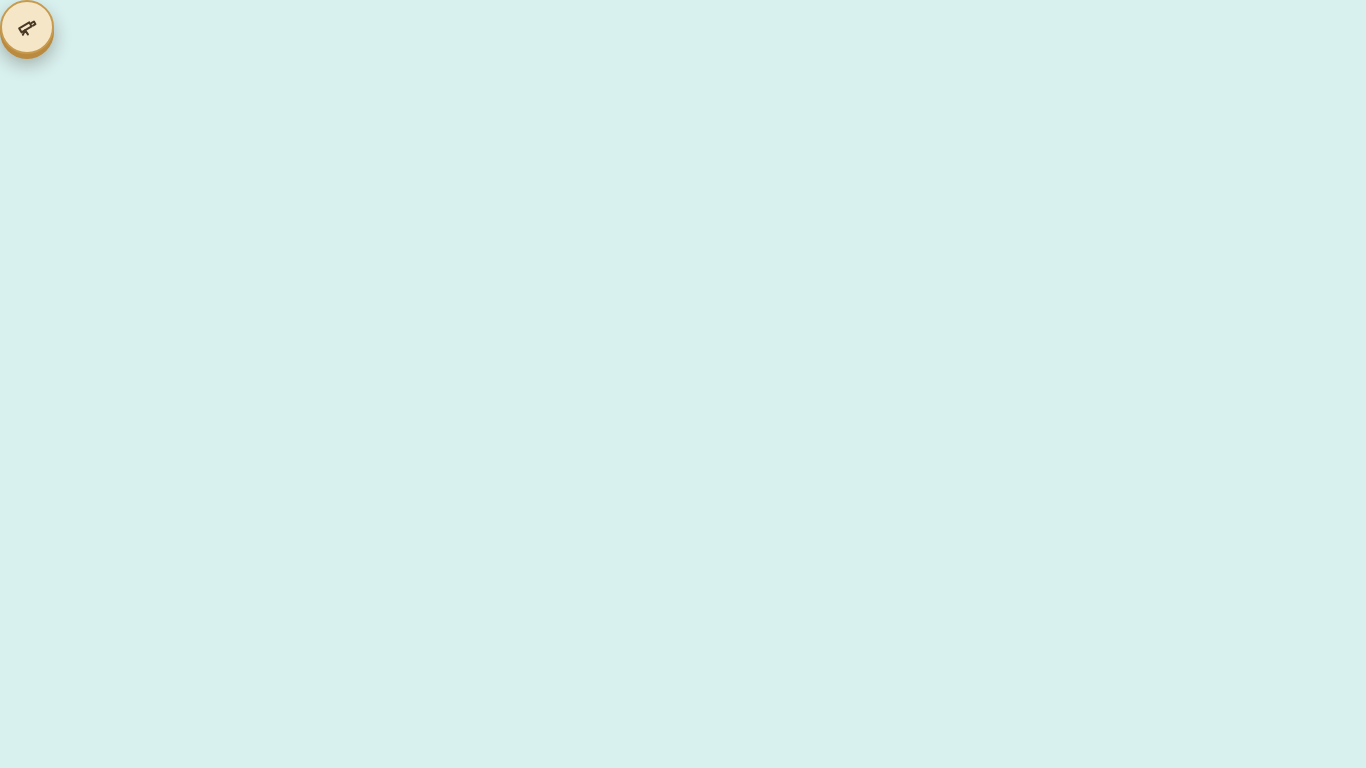
Test: ScoutControl › cancel closes the sheet without scouting
Click the button named "Scout for threats".
click(27, 27)  # box [0,0,54,54]
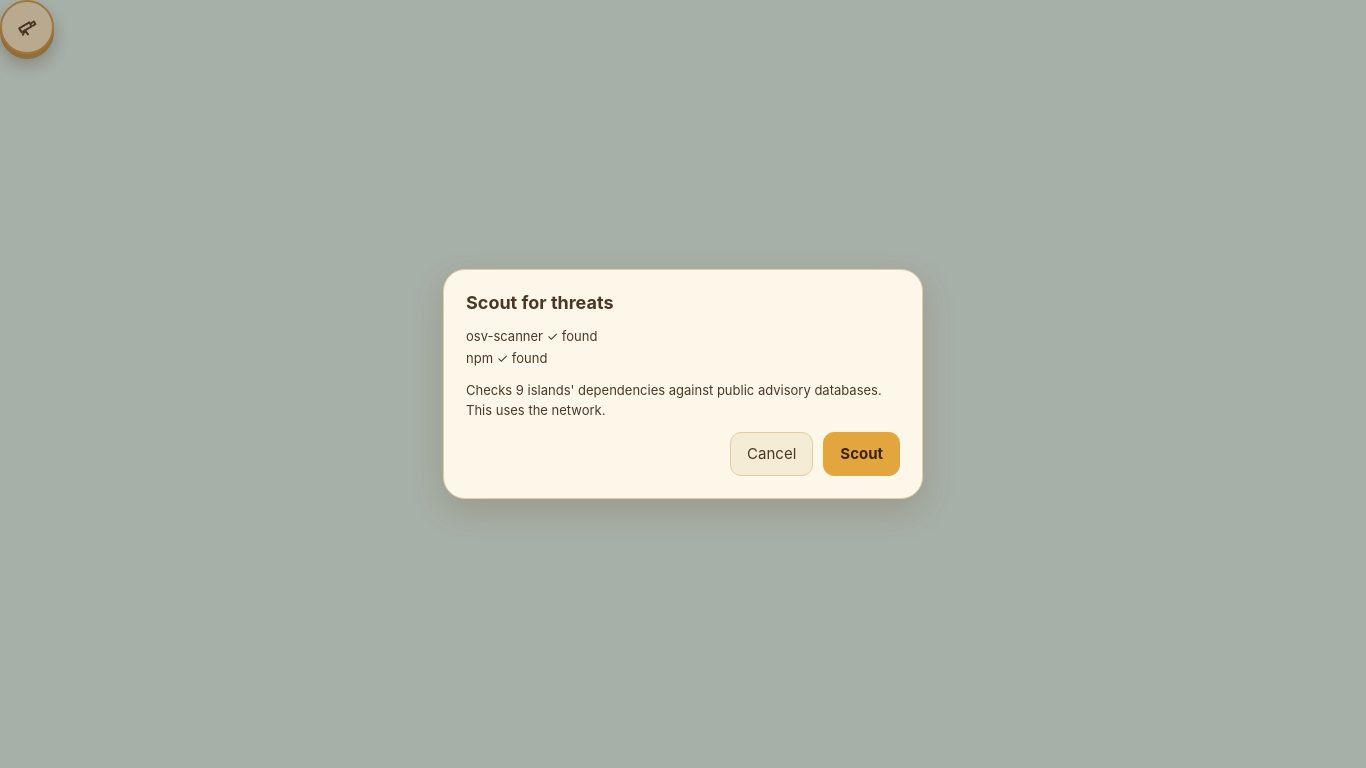
Click the button "Cancel".
click(772, 454)  # box [730,432,813,476]
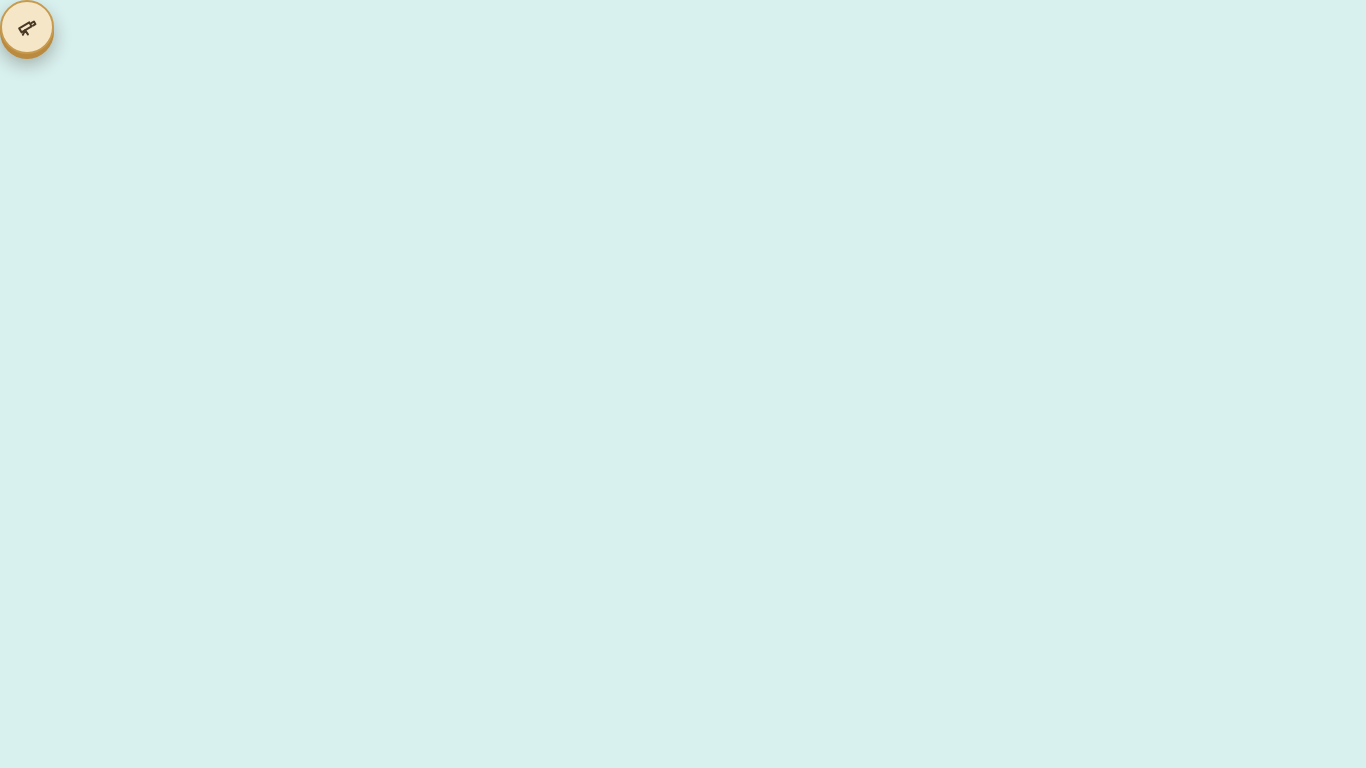
Expected: the dialog is gone
